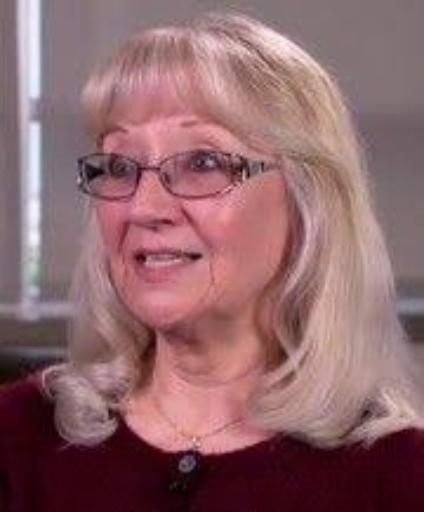left_eye: (182, 149, 231, 178)
left_lip_corner: (190, 251, 211, 268)
right_eye: (105, 158, 138, 179)
right_lip_corner: (128, 250, 146, 271)
